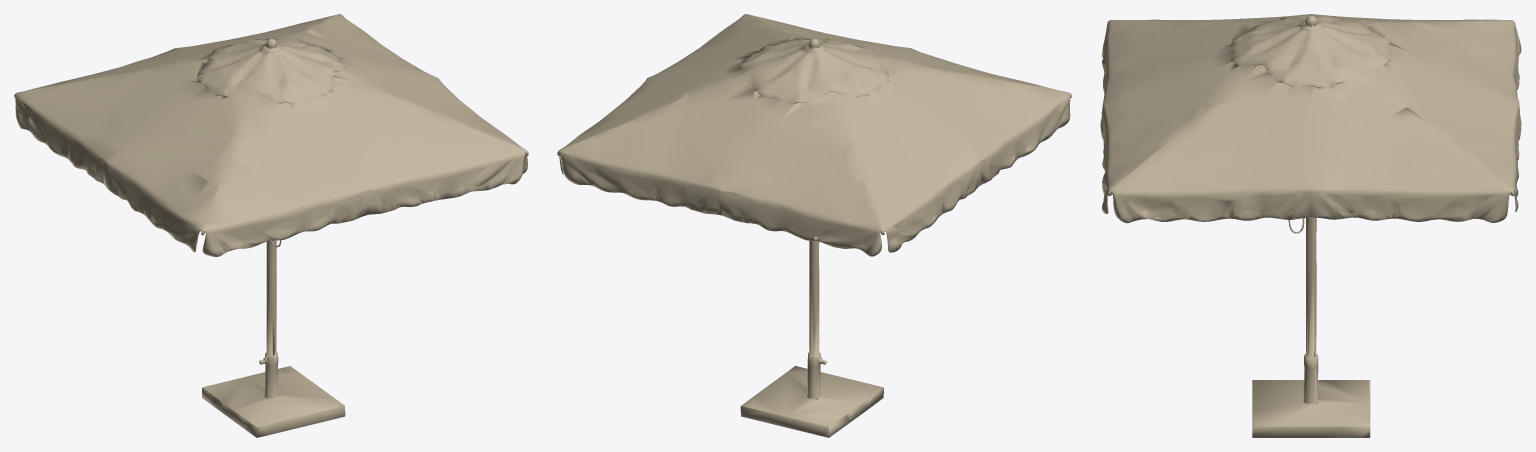
File: gen-cafe-parasol-1.glb
3 renders of one model, left to right at view 1: azimuth 30°, elevation 25°; view 2: azimuth 150°, elevation 25°; view 3: azimuth 270°, elevation 25°, orthographic. The views are drawn at different scales.
Visible parts, largest first — view 1: gen-cafe-parasol-1_part1; view 2: gen-cafe-parasol-1_part1; view 3: gen-cafe-parasol-1_part1.
Boxes of the visible parts, x1=… form: gen-cafe-parasol-1_part1: x1=14, y1=14, x2=528, y2=437; gen-cafe-parasol-1_part1: x1=557, y1=14, x2=1071, y2=437; gen-cafe-parasol-1_part1: x1=1100, y1=14, x2=1521, y2=437.
Bounding box in the file's own units: 2585 × 2700 × 2590.
